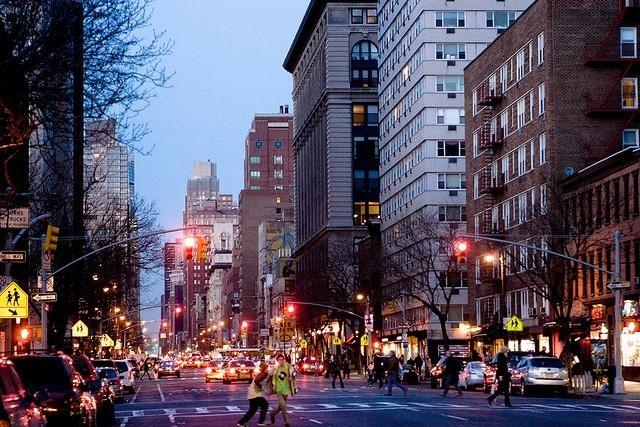bus: (220, 350, 292, 360)
car: (11, 356, 98, 421), (508, 355, 570, 396), (94, 366, 126, 404), (223, 360, 260, 384), (458, 362, 488, 390), (379, 356, 404, 382), (428, 357, 448, 389), (115, 360, 136, 388), (206, 360, 230, 384), (158, 360, 180, 379), (300, 357, 324, 374), (402, 364, 418, 382), (182, 357, 198, 369)
